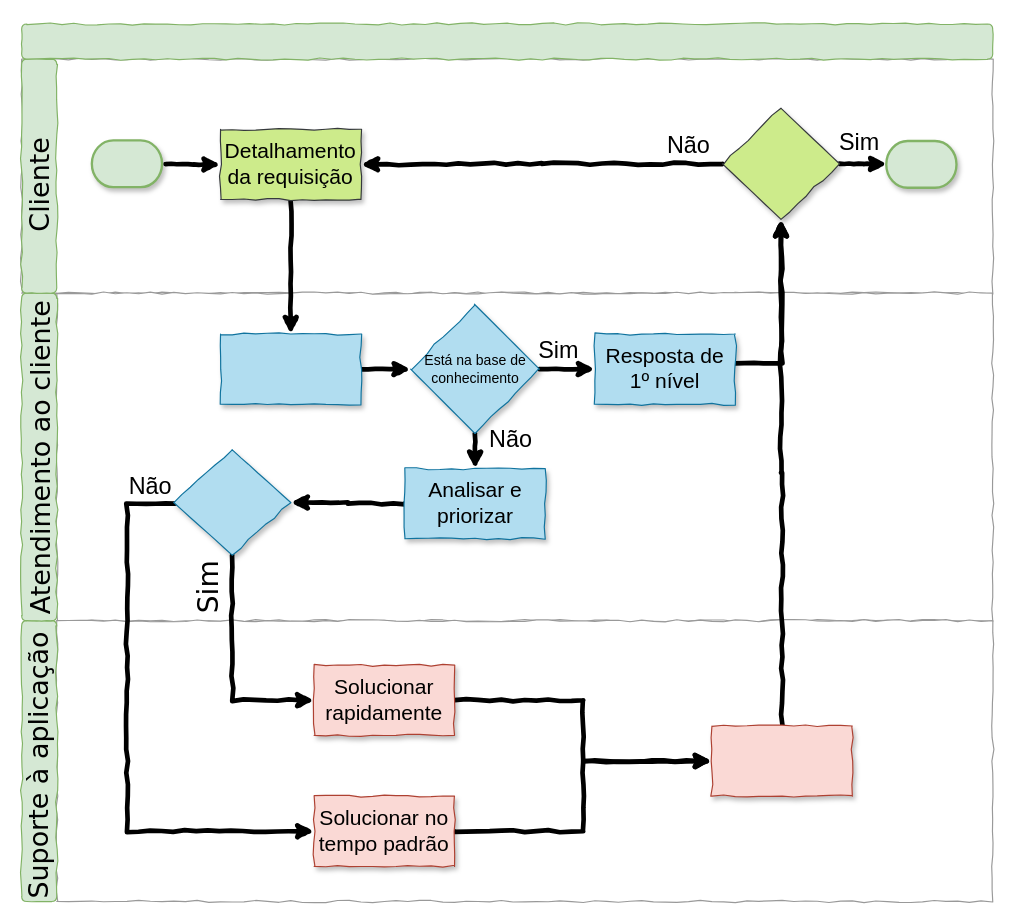
The diagram is 1013 pixels wide and 922 high, and some of its shapes have lost their labels. The centre of each missing label's shape, as x and y in pixels:
"Classificação da requisição" goes at point (291, 370).
"Fluxograma Para Requisições" goes at point (506, 41).
"Resolveu?" goes at point (781, 165).
"Resposta de 2º nível" goes at point (782, 762).
"É prioridade?" goes at point (233, 503).
